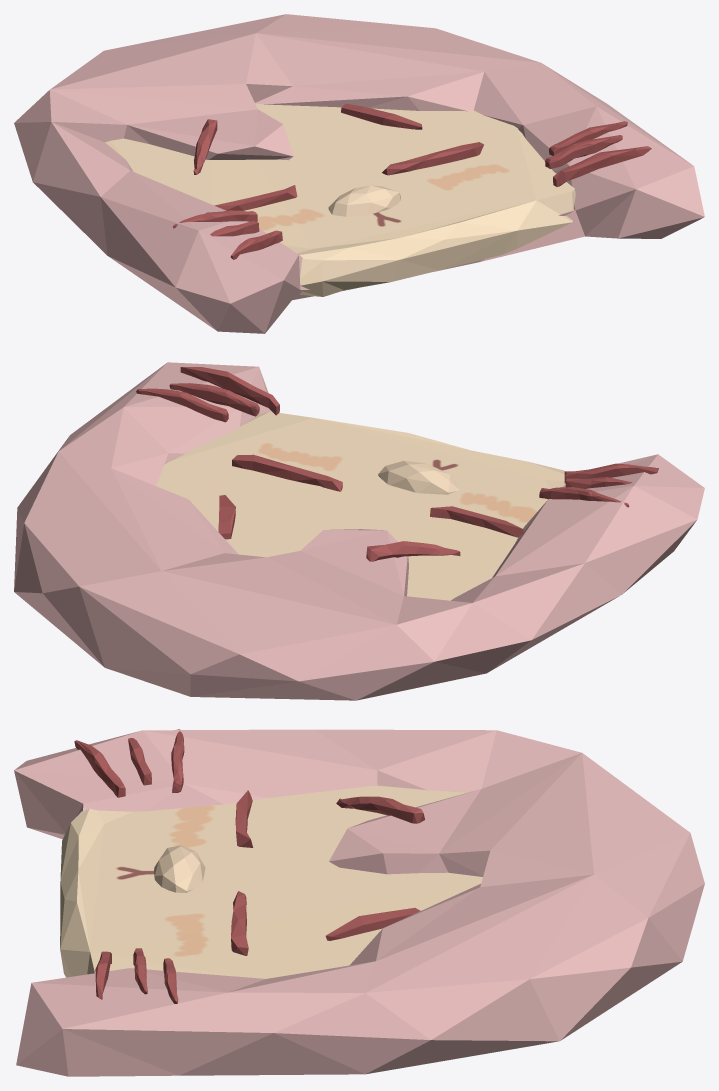
File: jumang.glb
The picture shows the model from 3 angles, top to bottom: view 1: azimuth 30°, elevation 25°; view 2: azimuth 150°, elevation 25°; view 3: azimuth 270°, elevation 25°; orthographic projection. The views are drawn at different scales.
Visible parts, largest first — view 1: sphere, square, sphere2, square10, square06, square09, square04, square07, square08, square13, square05, square11 (+1 smaller); view 2: sphere, square, sphere2, square06, square10, square09, square05, square07, square08, square11, square13, square04 (+1 smaller); view 3: sphere, square, sphere2, square05, square04, square11, square06, square07, square13, square12, square10.
Part boxes in pixels (x1=…): sphere: x1=14, y1=14, x2=704, y2=333; square: x1=105, y1=103, x2=575, y2=296; sphere2: x1=328, y1=185, x2=400, y2=216; square10: x1=553, y1=146, x2=651, y2=186; square06: x1=382, y1=142, x2=483, y2=175; square09: x1=545, y1=135, x2=622, y2=168; square04: x1=341, y1=103, x2=422, y2=129; square07: x1=214, y1=185, x2=297, y2=210; square08: x1=549, y1=121, x2=627, y2=155; square13: x1=173, y1=210, x2=257, y2=228; square05: x1=193, y1=119, x2=217, y2=174; square11: x1=230, y1=230, x2=282, y2=259; sphere: x1=14, y1=362, x2=704, y2=700; square: x1=155, y1=411, x2=565, y2=600; sphere2: x1=378, y1=460, x2=459, y2=494; square06: x1=232, y1=454, x2=342, y2=491; square10: x1=180, y1=367, x2=279, y2=415; square09: x1=169, y1=383, x2=259, y2=416; square05: x1=366, y1=541, x2=460, y2=561; square07: x1=430, y1=506, x2=523, y2=537; square08: x1=136, y1=388, x2=228, y2=422; square11: x1=564, y1=463, x2=658, y2=483; square13: x1=539, y1=487, x2=629, y2=507; square04: x1=218, y1=495, x2=235, y2=539; sphere: x1=14, y1=729, x2=704, y2=1076; square: x1=60, y1=785, x2=482, y2=978; sphere2: x1=154, y1=845, x2=205, y2=892; square05: x1=336, y1=796, x2=424, y2=823; square04: x1=325, y1=908, x2=420, y2=940; square11: x1=74, y1=740, x2=125, y2=797; square06: x1=231, y1=891, x2=248, y2=955; square07: x1=235, y1=790, x2=253, y2=847; square13: x1=171, y1=729, x2=184, y2=792; square12: x1=128, y1=738, x2=151, y2=785; square10: x1=95, y1=951, x2=111, y2=999.
Size of the model in its own units: 5.91 by 0.8841 by 5.84.
4 materials, 1 textured.
